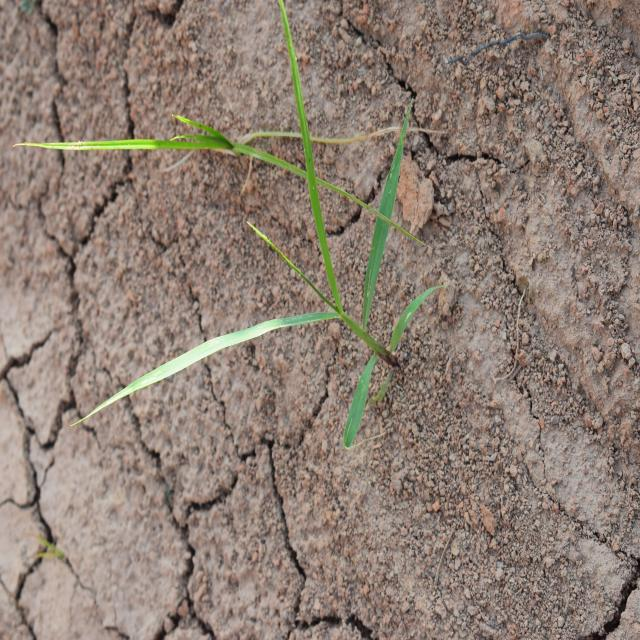green_foxtail: (114, 133, 470, 429)
